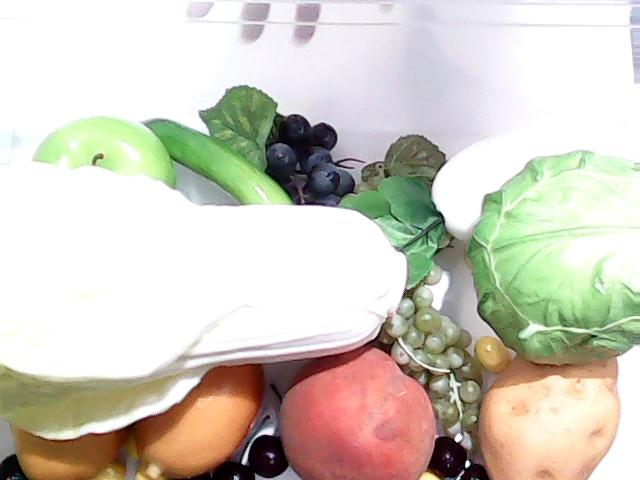apple: (30, 107, 210, 215)
cabbage: (464, 146, 640, 372)
grape: (390, 290, 494, 426), (274, 110, 356, 204)
lemon: (124, 358, 264, 480)
mango: (7, 406, 129, 480)
napa cabbage: (0, 160, 408, 441)
peach: (279, 343, 437, 480)
pepper: (136, 113, 324, 272)
potato: (473, 347, 623, 480)
radish: (343, 114, 640, 293)
